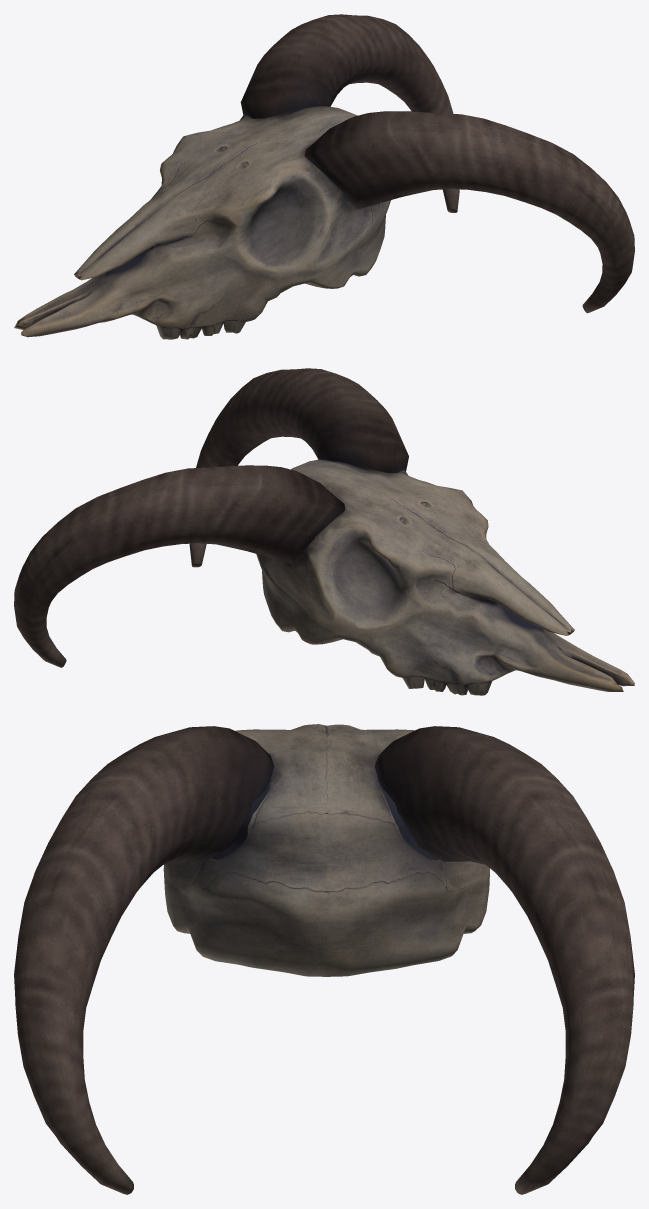
The model's file is SM_GoatSkull.fbx.
3 renders of one model, top to bottom at view 1: azimuth 30°, elevation 25°; view 2: azimuth 150°, elevation 25°; view 3: azimuth 270°, elevation 25°, orthographic. The views are drawn at different scales.
Visible parts, largest first — view 1: SM_GoatSkull_LOD0; view 2: SM_GoatSkull_LOD0; view 3: SM_GoatSkull_LOD0.
Boxes of the visible parts, box(x1,y1,x2,y2) form: SM_GoatSkull_LOD0: box(14, 14, 634, 339); SM_GoatSkull_LOD0: box(14, 368, 634, 695); SM_GoatSkull_LOD0: box(14, 724, 634, 1194).
Bounding box in the file's own units: 42.2 × 29.46 × 17.51.
